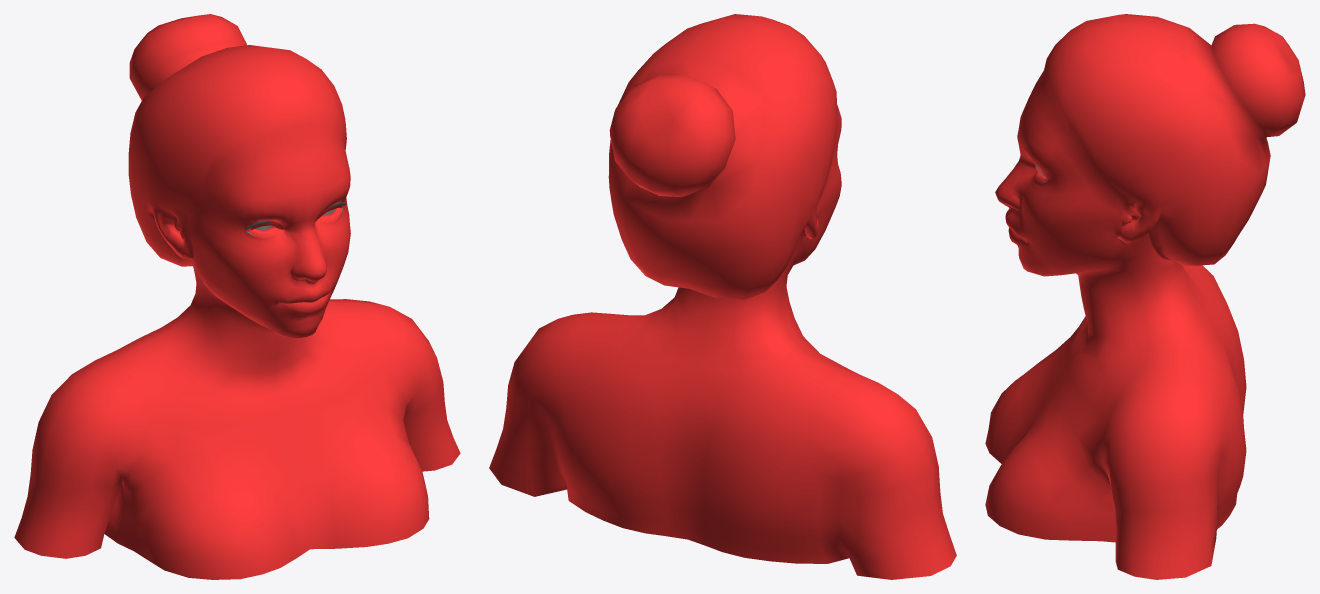
File: female low poly sketchfab.fbx
The picture shows the model from 3 angles, left to right: view 1: azimuth 30°, elevation 25°; view 2: azimuth 150°, elevation 25°; view 3: azimuth 270°, elevation 25°; orthographic projection. The views are drawn at different scales.
Parts seen in each view (by area): view 1: female body outline; view 2: female body outline; view 3: female body outline.
Part boxes in pixels (x1,y1,x2,y2): female body outline: (14, 14, 460, 579); female body outline: (489, 14, 956, 579); female body outline: (985, 14, 1305, 579).
Size of the model in its own units: 47.25 by 47.74 by 30.5.
